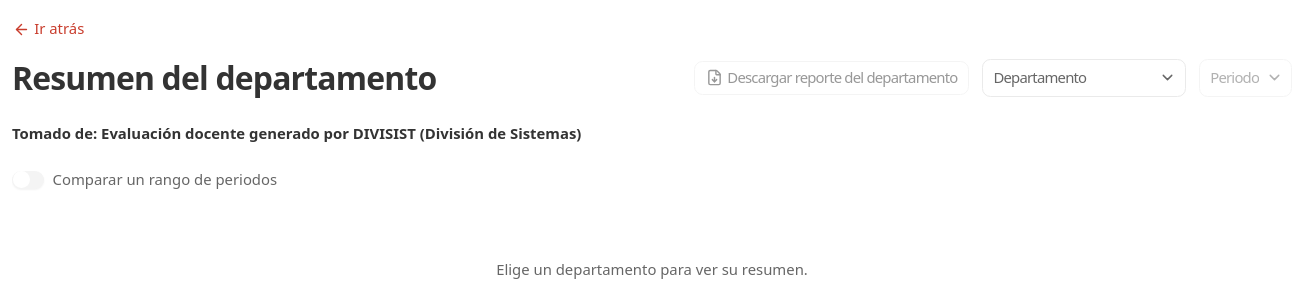
Scenario: DepartmentPeriodRangeSummary › keeps the department picker on screen when the picked one has no evaluations
The width and height of the screenshot is (1304, 296).
Step 1. Click the dropdown labelled "Departamento" → (1072, 78), box [994,59,1151,97]
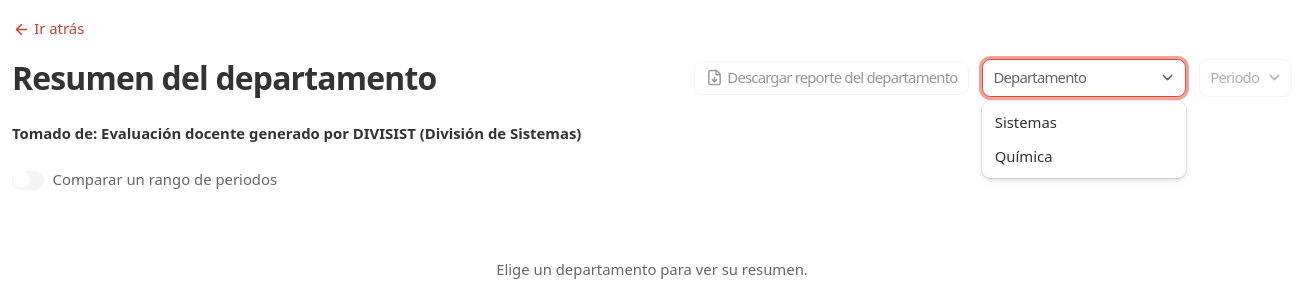
Step 2. Click the option "Sistemas" → (1026, 122), box [995,112,1057,132]
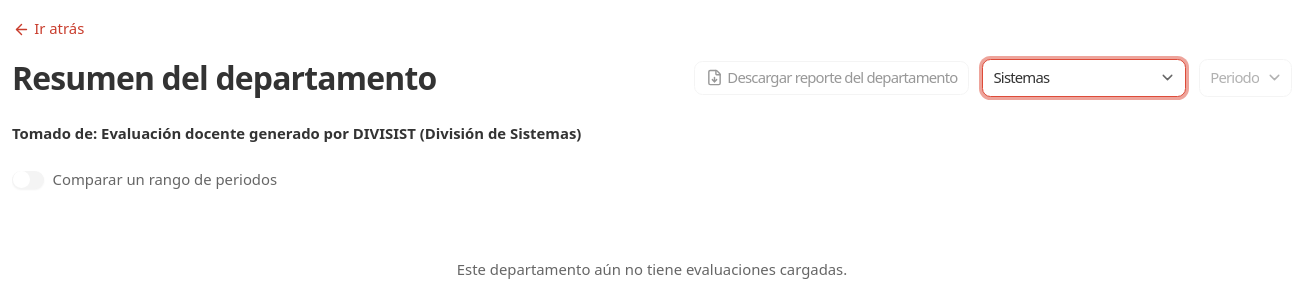
Expected: the dropdown named "Departamento" is shown, [994,59,1151,97]
Expected: the text "Este departamento aún no tiene evaluaciones cargadas." is shown, [457,258,847,278]
